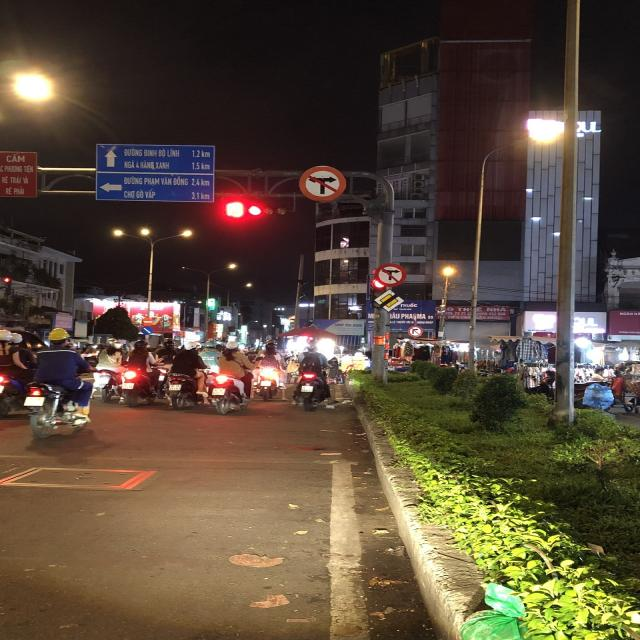Bien bao cam re phai: (406, 323, 424, 339)
